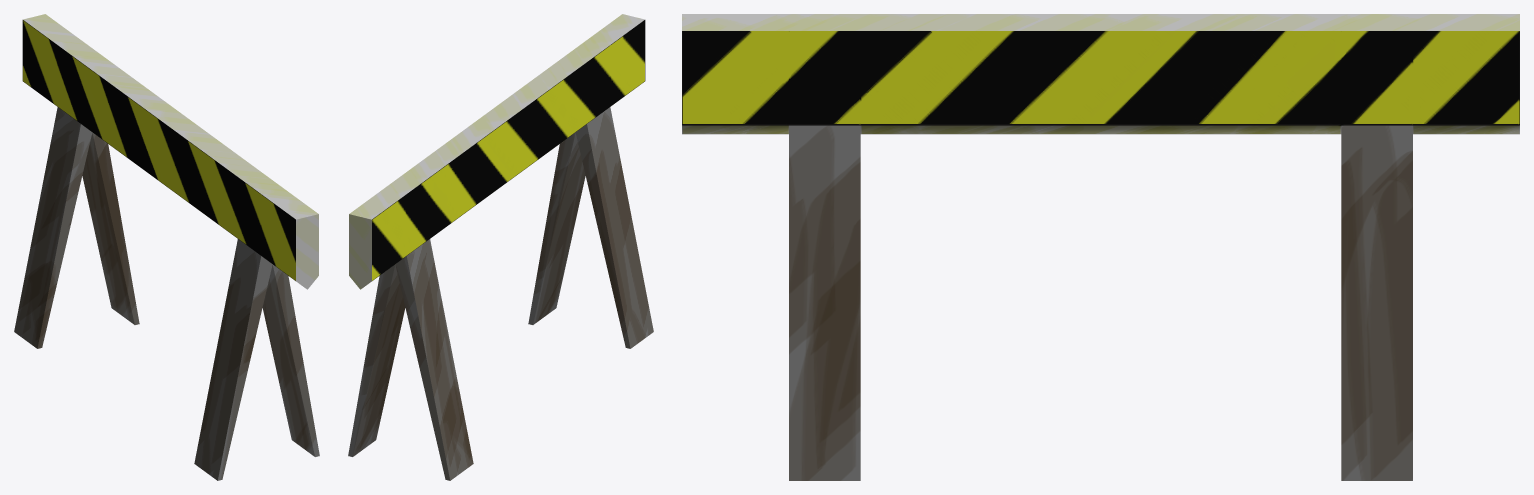
File: testfence.fbx
3 renders of one model, left to right at view 1: azimuth 30°, elevation 25°; view 2: azimuth 150°, elevation 25°; view 3: azimuth 270°, elevation 25°, orthographic. The views are drawn at different scales.
Parts seen in each view (by area): view 1: Mesh; view 2: Mesh; view 3: Mesh.
Part boxes in pixels (x1,y1,x2,y2): Mesh: [14, 14, 319, 480]; Mesh: [348, 14, 653, 480]; Mesh: [682, 14, 1519, 480].
Bounding box in the file's own units: 1.73 × 4.47 × 8.02.
1 material, 1 textured.
